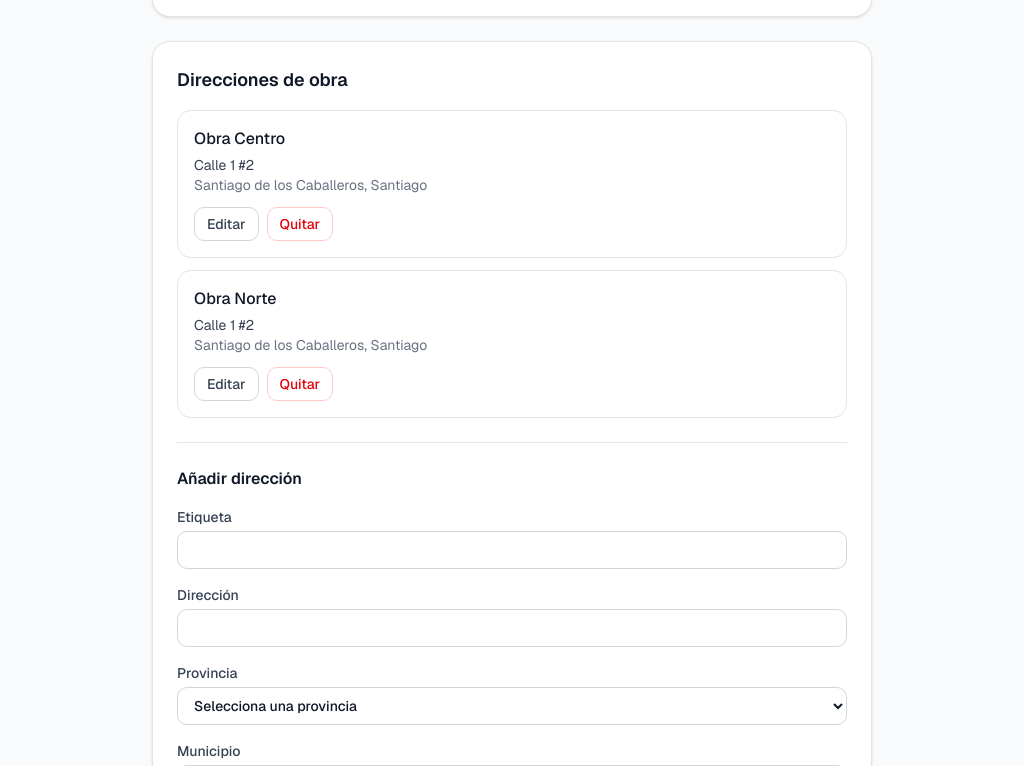
Test case: PerfilComprador › muestra el error al quitar dentro de la tarjeta afectada y lo limpia al intentar editar otra
The image size is (1024, 766).
(page scrolled)
What coordinates should you click on to do the following:
click the button with aria-label "Quitar Obra Norte"
I would click on:
 (300, 384)
Its box is [267, 367, 333, 401].
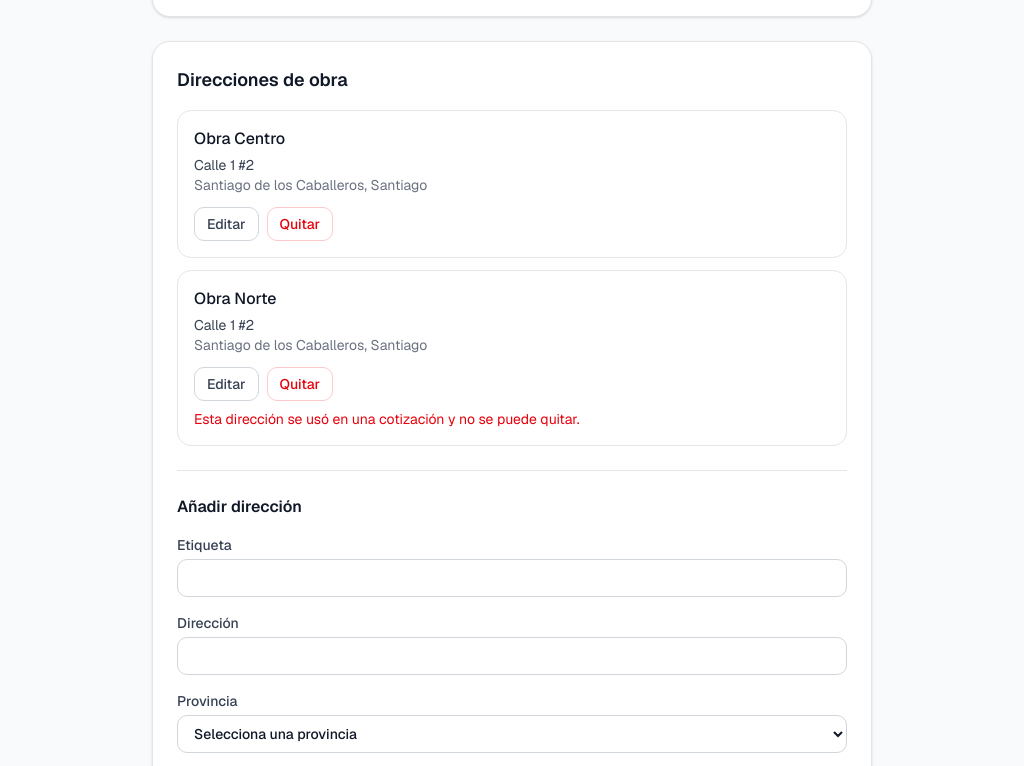
Expected: the message reads "Esta dirección se usó en una cotización y no se puede quitar.", [194, 410, 580, 428]
Expected: the number of messages is 1, [194, 410, 580, 428]
What coordinates should you click on to do the following:
click the button with aria-label "Editar Obra Centro"
I would click on:
 (226, 224)
Its box is [194, 207, 259, 241].
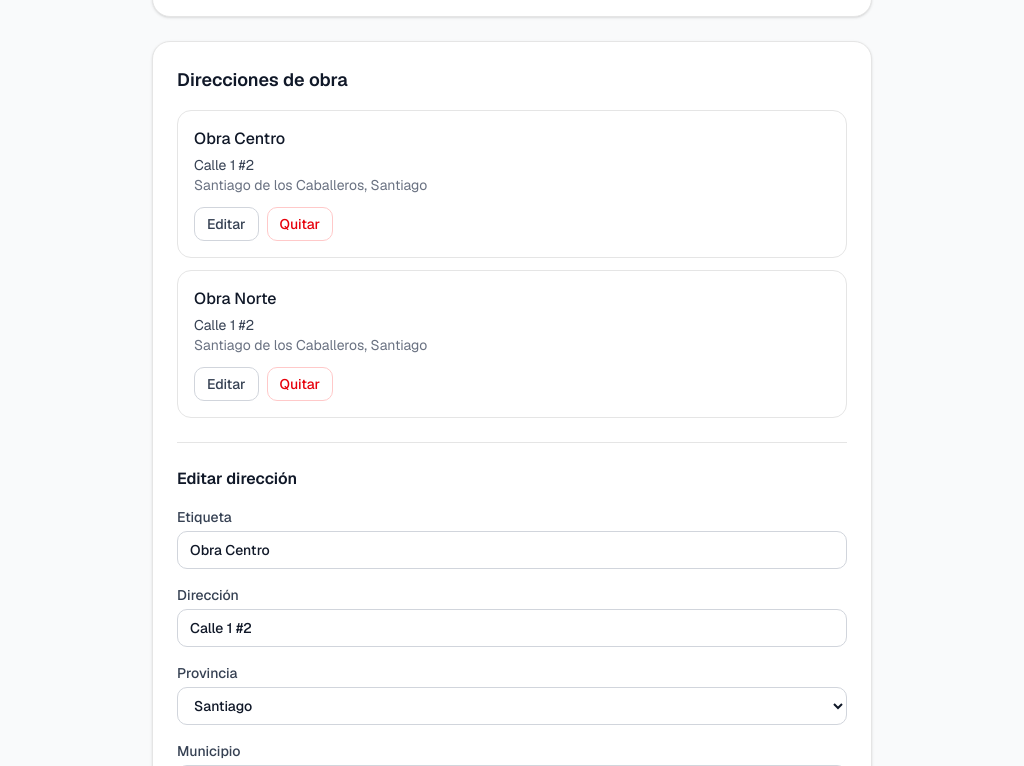
Expected: the message "Esta dirección se usó en una cotización y no se puede quitar." is gone
